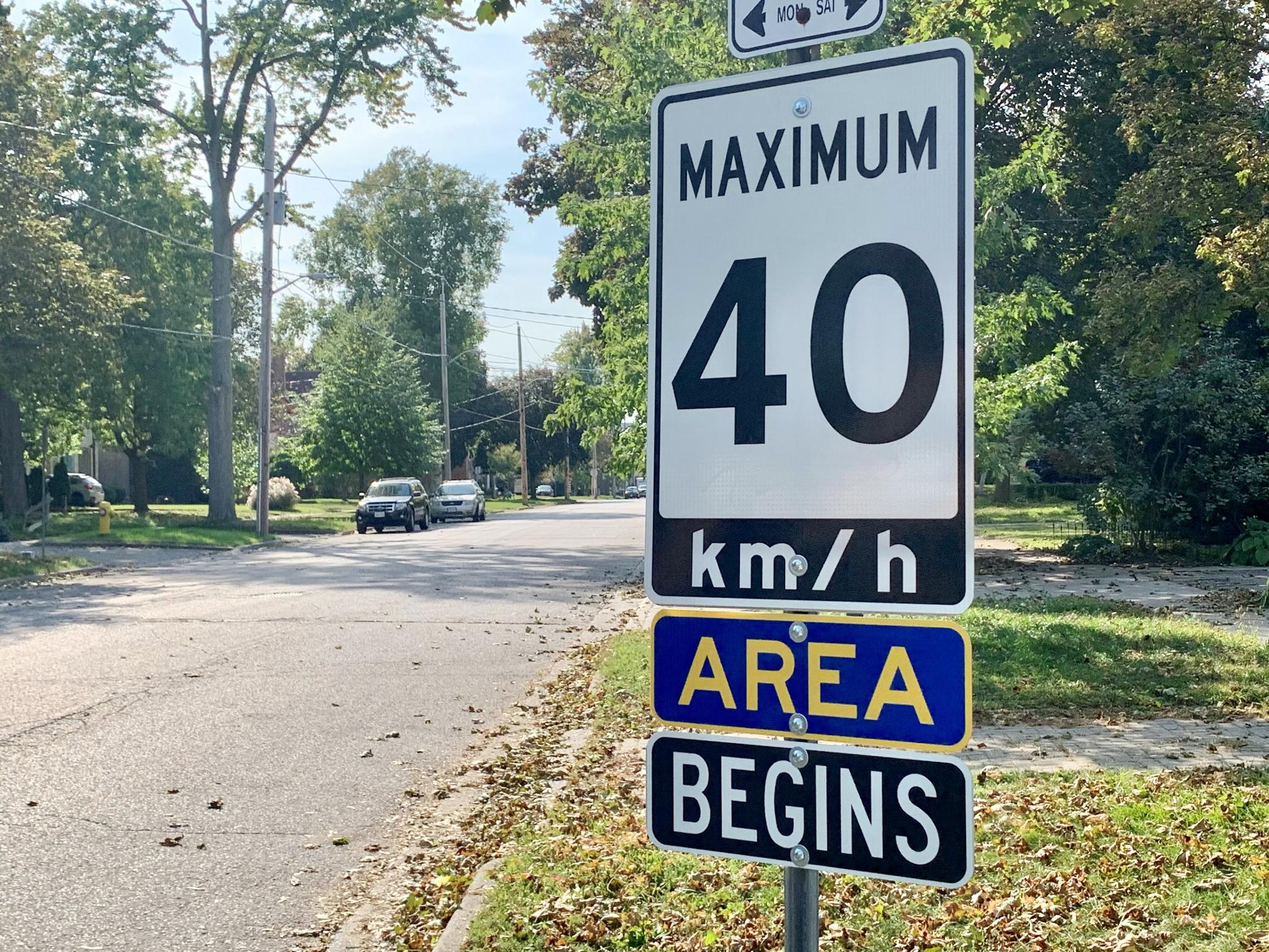speed limit sign: (643, 34, 972, 620)
